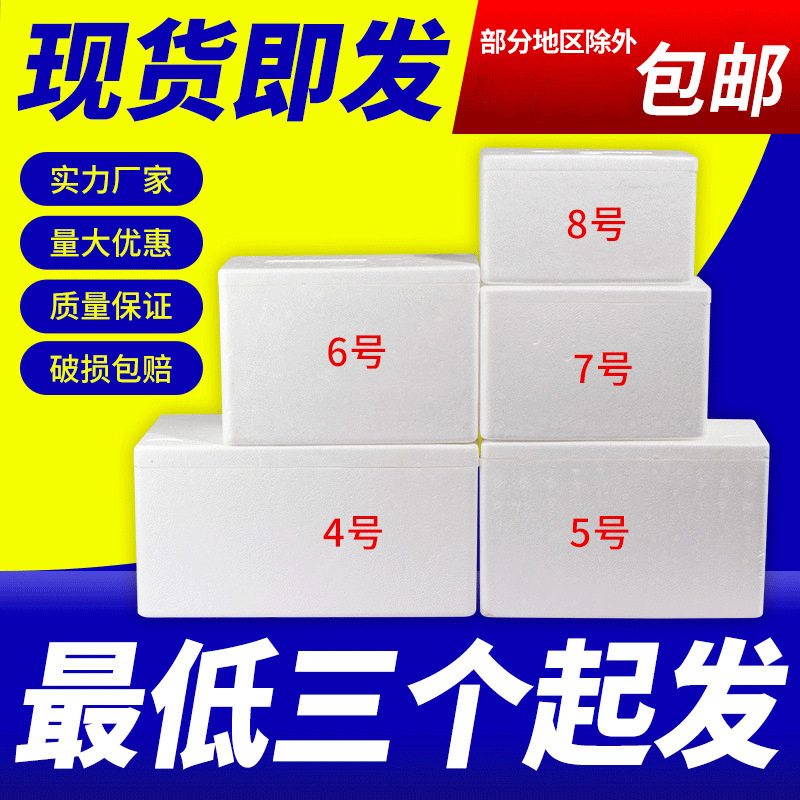Boxes: (134, 149, 769, 618)
